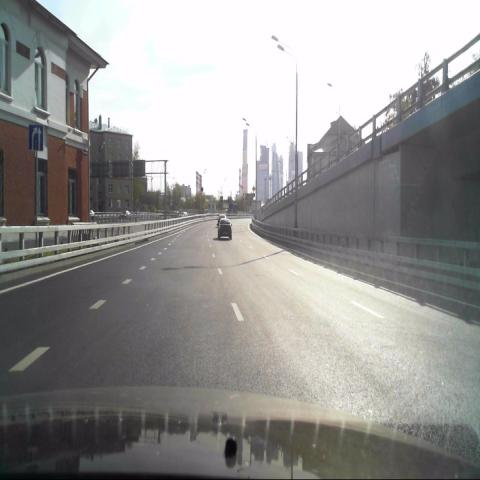5_15_5: (29, 123, 43, 151)
